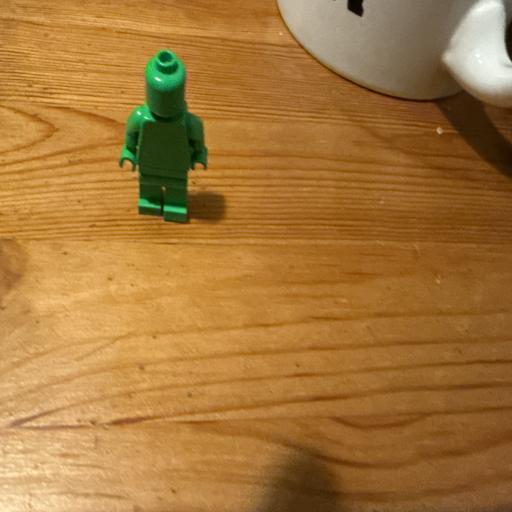Minifig: (119, 50, 207, 222)
